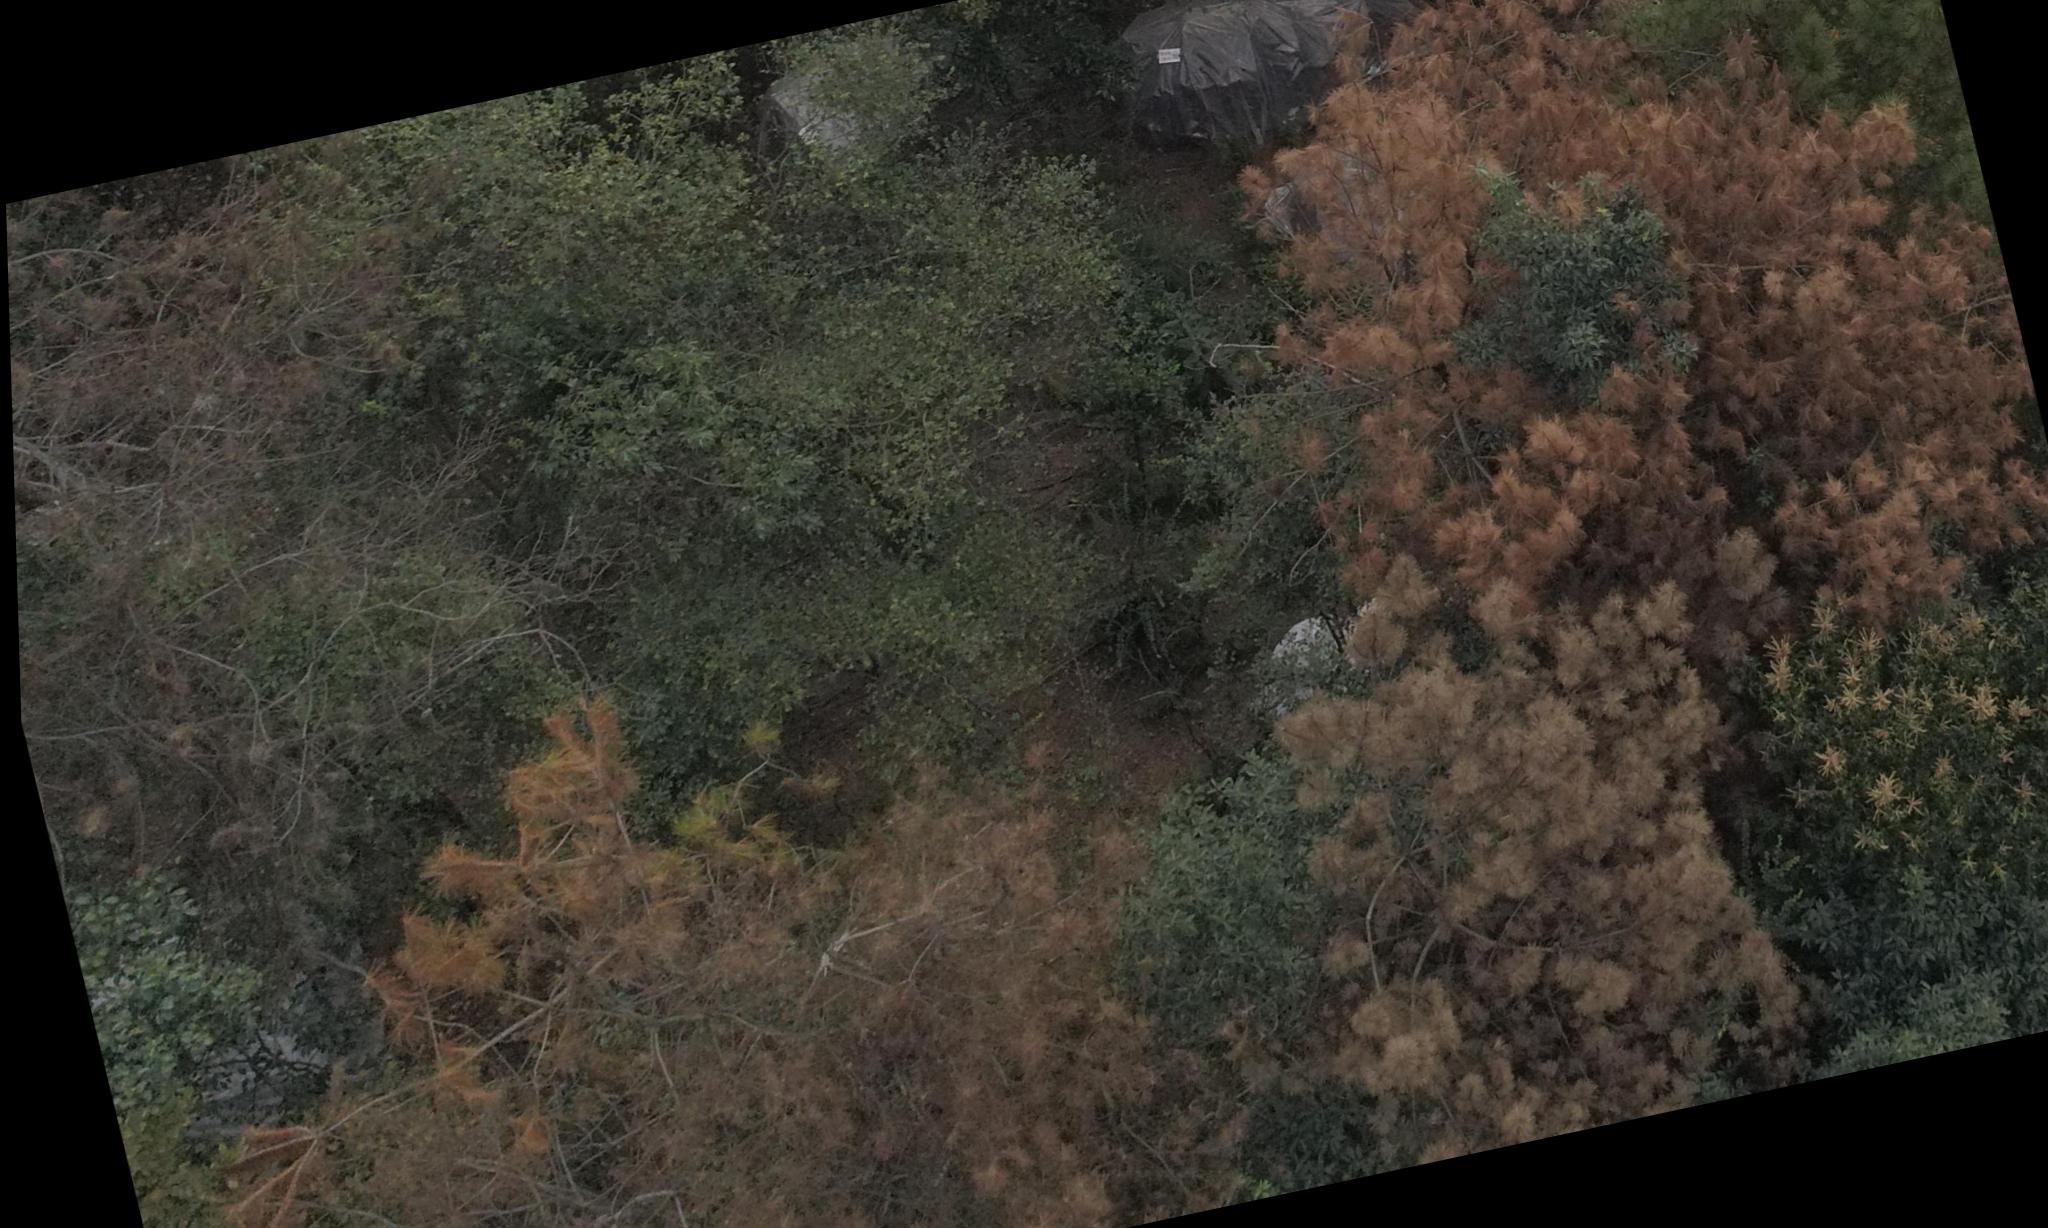dead: (4, 170, 450, 658)
heavy: (1077, 0, 2048, 757), (120, 637, 1232, 1228), (1174, 487, 1876, 1187)
